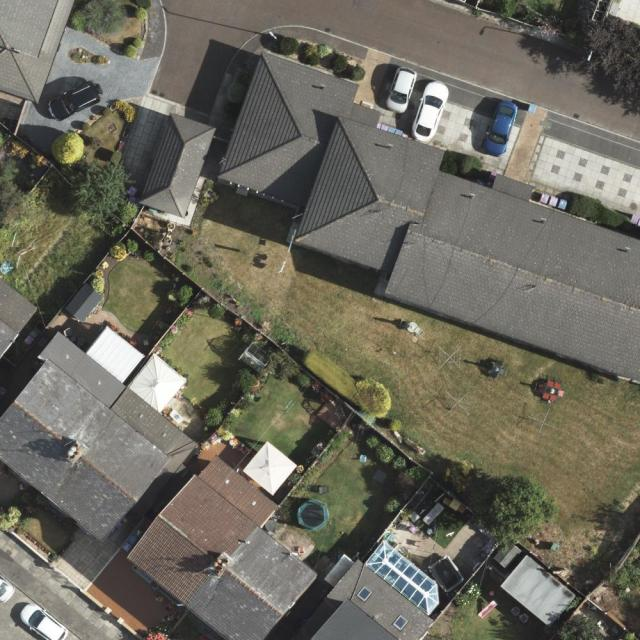roof: (217, 53, 640, 389), (0, 324, 200, 552), (124, 453, 322, 639), (297, 540, 442, 640), (138, 114, 219, 220), (0, 0, 76, 104), (0, 274, 42, 361)
skylight: (366, 538, 441, 617), (385, 610, 414, 636), (352, 583, 376, 603)
